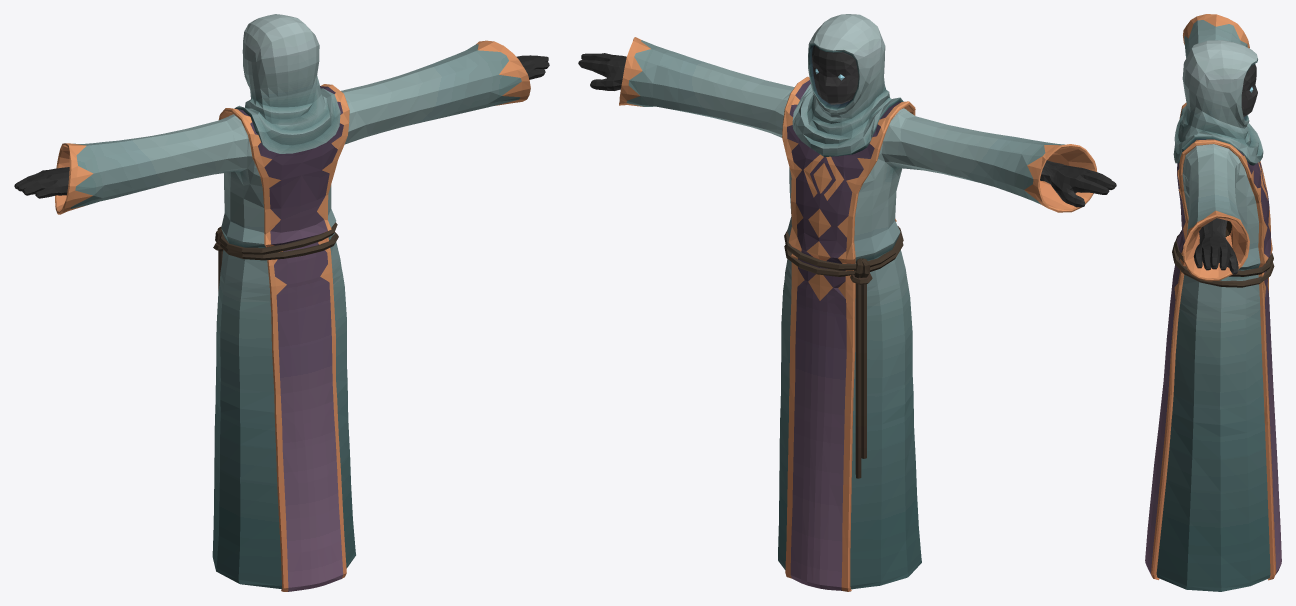
The model's file is NPC_AP27NightElder.glb.
3 views of the same model, side by side, from view 1: azimuth 30°, elevation 25°; view 2: azimuth 150°, elevation 25°; view 3: azimuth 270°, elevation 25° (orthographic). The views are drawn at different scales.
Visible parts, largest first — view 1: NPC_AP27NightElder; view 2: NPC_AP27NightElder; view 3: NPC_AP27NightElder.
Boxes of the visible parts, <box> form: NPC_AP27NightElder: <box>14,14,549,591</box>; NPC_AP27NightElder: <box>578,14,1116,591</box>; NPC_AP27NightElder: <box>1145,14,1281,591</box>.
Size of the model in its own units: 14.03 by 13.72 by 3.26.
1 material, 1 textured.
